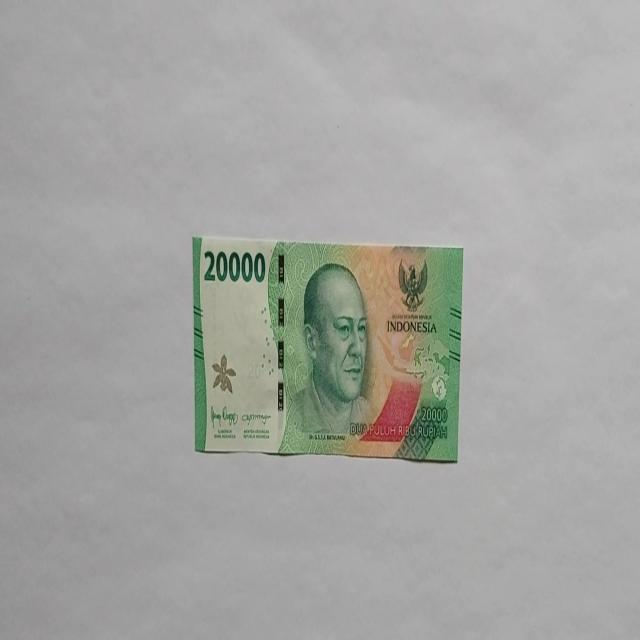dua puluh ribu rupiah: (192, 234, 464, 462), (278, 260, 379, 454)
